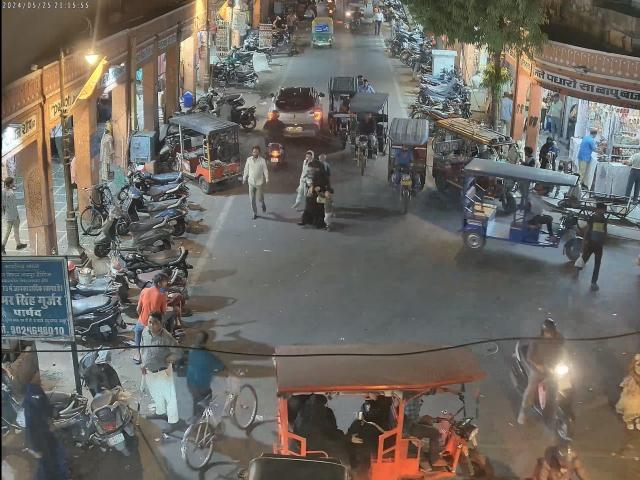auto: (272, 341, 493, 478), (460, 162, 586, 267), (166, 112, 242, 191), (438, 125, 517, 192), (386, 111, 429, 207), (350, 91, 390, 174), (269, 84, 324, 140)
bicycle: (78, 180, 114, 235)
bicycle-rider: (172, 332, 257, 474)
helmet: (541, 318, 557, 342)
person: (15, 386, 66, 480), (139, 316, 177, 432), (294, 149, 334, 226), (584, 198, 606, 290), (243, 146, 270, 216), (4, 176, 27, 255)
scooty: (78, 343, 136, 459), (104, 260, 184, 308), (90, 208, 172, 252), (126, 184, 187, 232)
scooty-rider: (507, 316, 577, 428)
